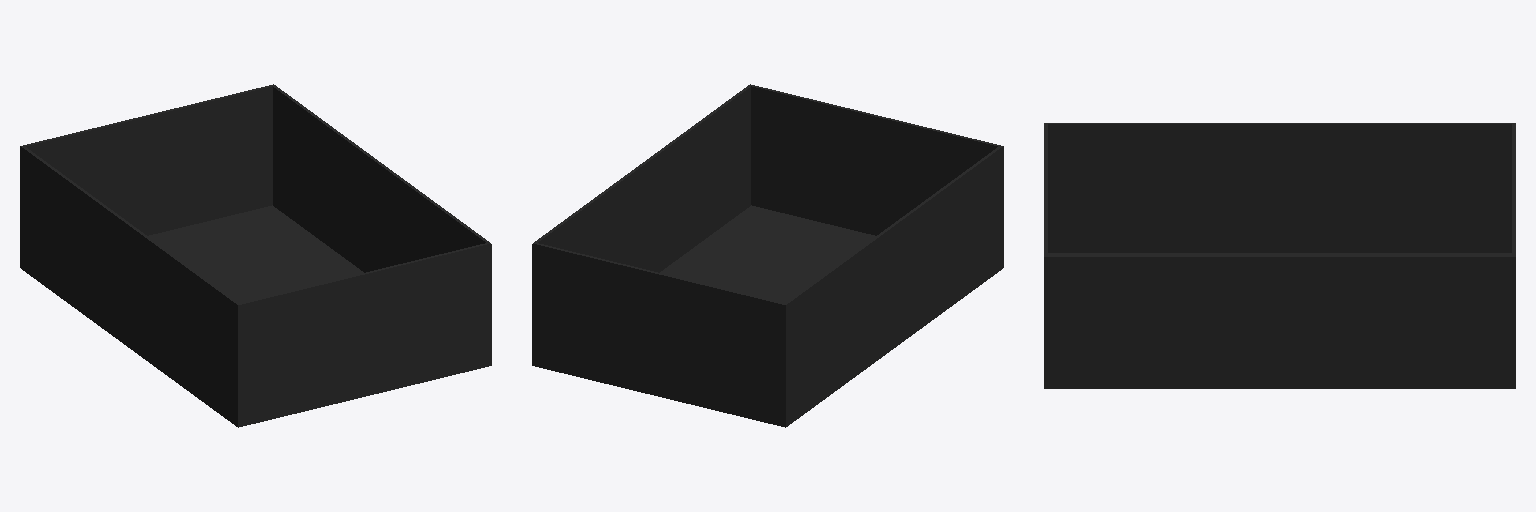
The robot description file, URDF, robot "box":
<?xml version="1.0"?>
<robot name="box">

  <link name="base_link">
    <visual>
        <origin rpy="0 0 0" xyz="0 0 0"/>
        <geometry>
            <mesh filename="gym-examples/gym_examples/models/box/visual/box.stl"/>
        </geometry>
        <material name="abb_orange">
            <color rgba="0.2 0.2 0.2 1"/>
        </material>
    </visual>
    <collision>
        <origin rpy="0 0 0" xyz="0 0 0"/>
        <geometry>
            <mesh filename="gym-examples/gym_examples/models/box/visual/box.stl"/>
        </geometry>
        <material name="yellow">
            <color rgba="0.2 0.2 0.2 1"/>
        </material>
        <inertial>
            <mass value="6.21503193527"/>
            <inertia ixx="0.0247271241712" ixy="-0.00130888043627" ixz="-8.0795905152e-05" iyy="0.04723746454" iyz="-8.0325637493e-06" izz="0.049128484834"/>
            <origin rpy="0 0 0" xyz="0 0 0"/>
        </inertial>  
    </collision>
  </link>

</robot>

--- Facts derived from the render (not from the file) ---
Views: 3 orthographic renders of the robot side by side, from view 1: azimuth 30°, elevation 25°; view 2: azimuth 150°, elevation 25°; view 3: azimuth 270°, elevation 25°.
Robot: box — 1 links, 0 joints (none); root link base_link; default pose: every joint at zero.
Links seen in each view (by area): view 1: base_link; view 2: base_link; view 3: base_link.
Boxes of the visible links, box(x1,y1,x2,y2) form: base_link: box(20, 84, 491, 427); base_link: box(532, 84, 1003, 427); base_link: box(1044, 123, 1515, 388).
Bounding box of the posed robot: 0.39 × 0.58 × 0.18 m (x, y, z).
Meshes: 1 distinct files referenced, 1 mesh visuals loaded (1 binary STL).